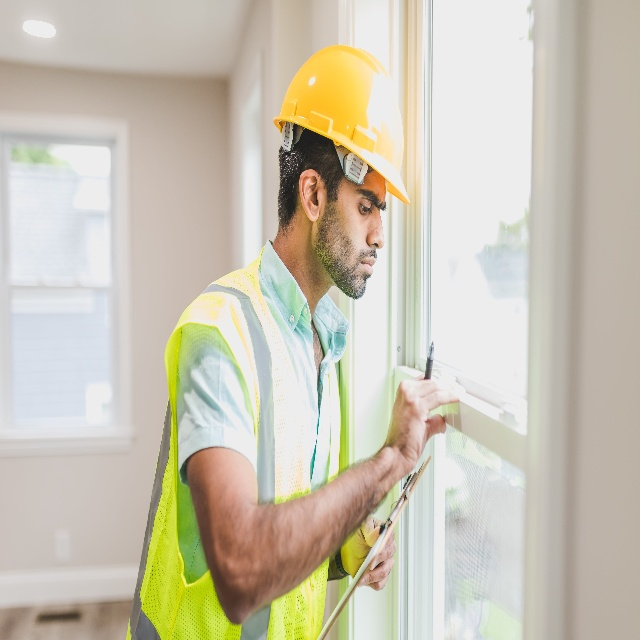Sin_guantes: (385, 373, 464, 476), (341, 516, 396, 591)
